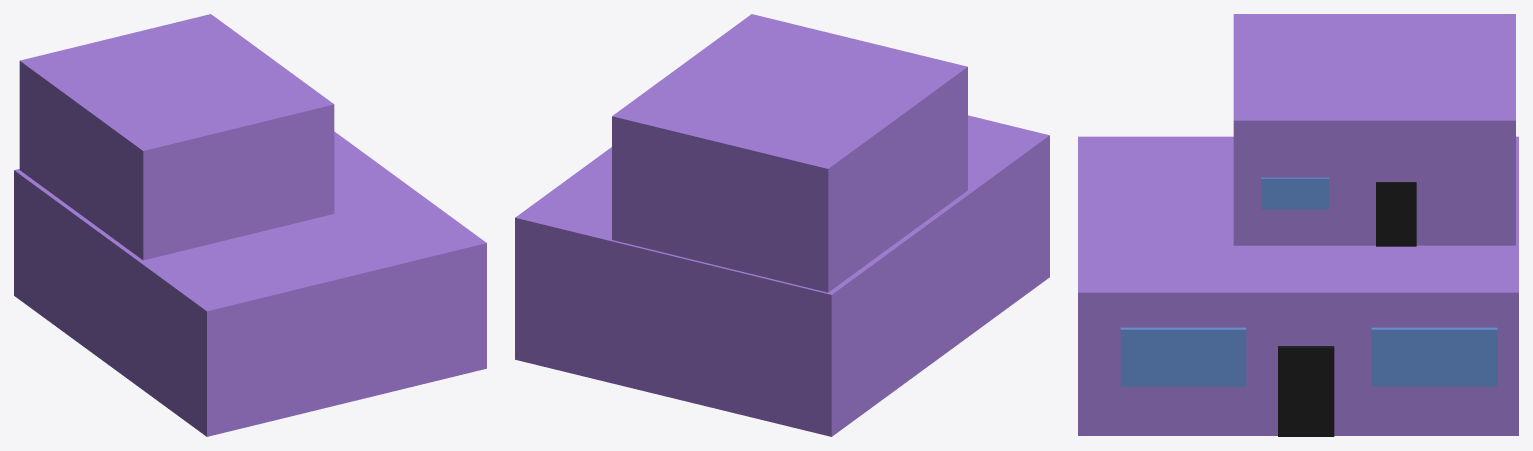
The model's file is House_1_Purple.fbx.
The picture shows the model from 3 angles, left to right: view 1: azimuth 30°, elevation 25°; view 2: azimuth 150°, elevation 25°; view 3: azimuth 270°, elevation 25°; orthographic projection. The views are drawn at different scales.
Parts seen in each view (by area): view 1: Cube.015, Cube.016; view 2: Cube.015, Cube.016; view 3: Cube.015, Cube.016, Window_1.013, Window_1.014, Door_1.007, Door_2.002, Window_2.002.
Part boxes in pixels (x1,y1,x2,y2): Cube.015: [14, 131, 486, 436]; Cube.016: [19, 14, 334, 260]; Cube.015: [515, 115, 1049, 436]; Cube.016: [612, 14, 967, 292]; Cube.015: [1078, 136, 1518, 435]; Cube.016: [1233, 14, 1515, 245]; Window_1.013: [1120, 327, 1246, 386]; Window_1.014: [1371, 327, 1497, 386]; Door_1.007: [1278, 346, 1334, 436]; Door_2.002: [1376, 182, 1416, 246]; Window_2.002: [1261, 177, 1328, 209].
Bounding box in the file's own units: 2390 × 1892 × 2816.
